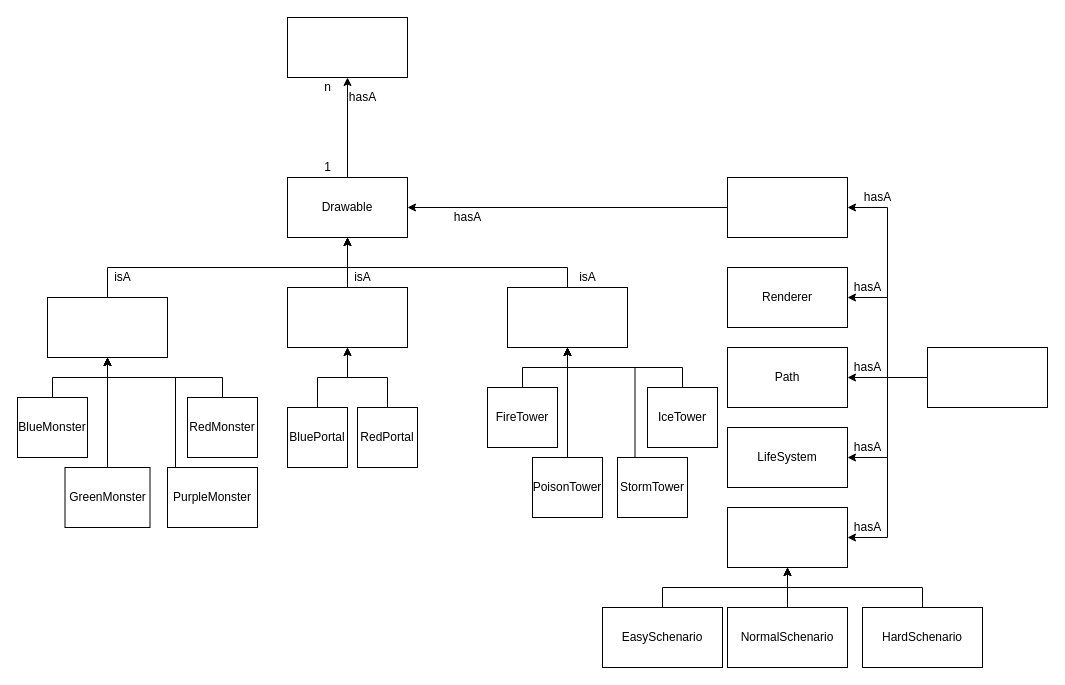
The diagram is 1065 pixels wide and 685 high, and some of its shapes have lost their labels. The shapes that lost their labels are listed below. From the top down, each one's centre as x and y in pixels, then its label:
At (x=347, y=47): "Animator".
At (x=787, y=207): "Map".
At (x=107, y=327): "Monster".
At (x=347, y=317): "Portal".
At (x=567, y=317): "Tower".
At (x=987, y=377): "TheGame".
At (x=787, y=537): "Schenario".
